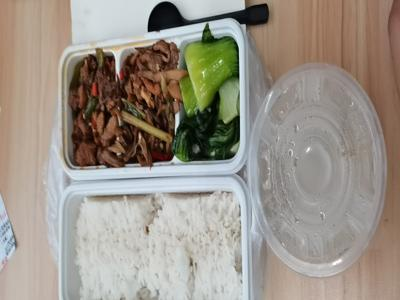rice: (68, 191, 245, 299)
yc: (178, 33, 244, 165)
